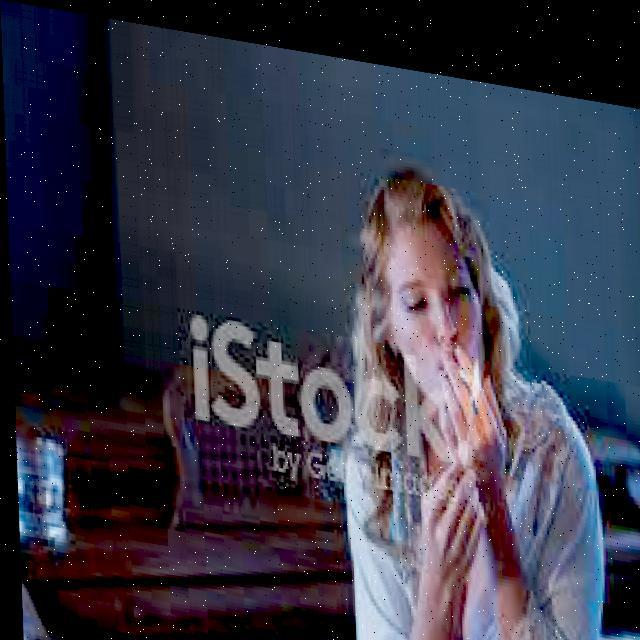Fire: (459, 334, 484, 389)
